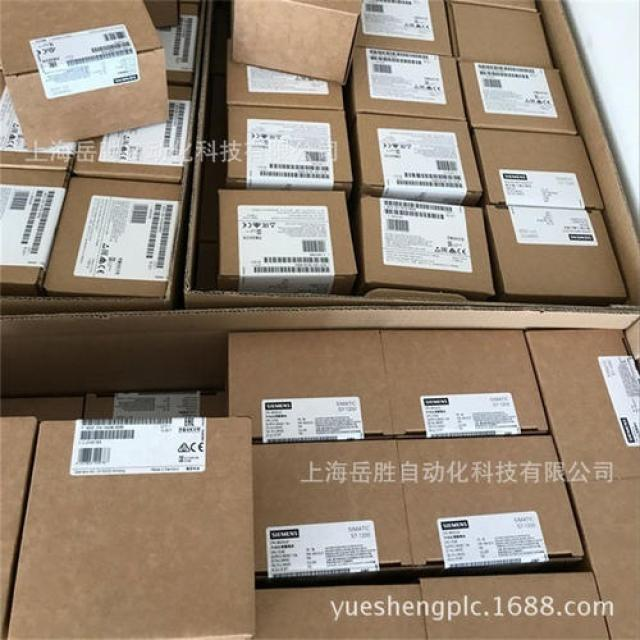box: (0, 311, 639, 638), (183, 3, 639, 311), (0, 1, 205, 310), (3, 417, 257, 639), (526, 329, 639, 639), (403, 440, 598, 578), (0, 1, 170, 151), (252, 435, 415, 580), (228, 331, 394, 442), (382, 330, 551, 434), (41, 174, 181, 295), (217, 190, 358, 295), (361, 190, 497, 298), (407, 566, 598, 640), (484, 208, 630, 300), (73, 80, 199, 181), (357, 111, 484, 208), (231, 1, 362, 87), (253, 575, 427, 639), (471, 125, 603, 208), (226, 106, 351, 188), (453, 56, 577, 134), (0, 166, 73, 296), (1, 417, 40, 637), (351, 46, 469, 118), (1, 68, 79, 174), (450, 3, 553, 66), (225, 58, 342, 111), (355, 3, 454, 55), (83, 392, 228, 417), (157, 3, 201, 84), (1, 394, 88, 422), (142, 3, 178, 28), (447, 1, 540, 10)
